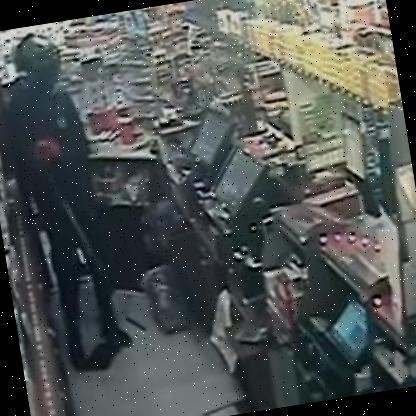person: (0, 21, 134, 387)
